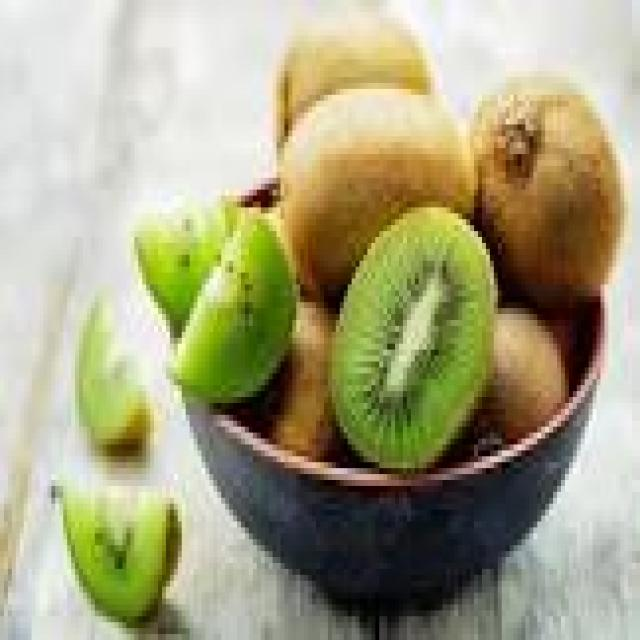kivi: (330, 206, 498, 469), (282, 88, 472, 291), (472, 90, 625, 304), (174, 218, 296, 403), (276, 19, 432, 150), (64, 486, 181, 622), (134, 201, 239, 336), (495, 308, 568, 441)
